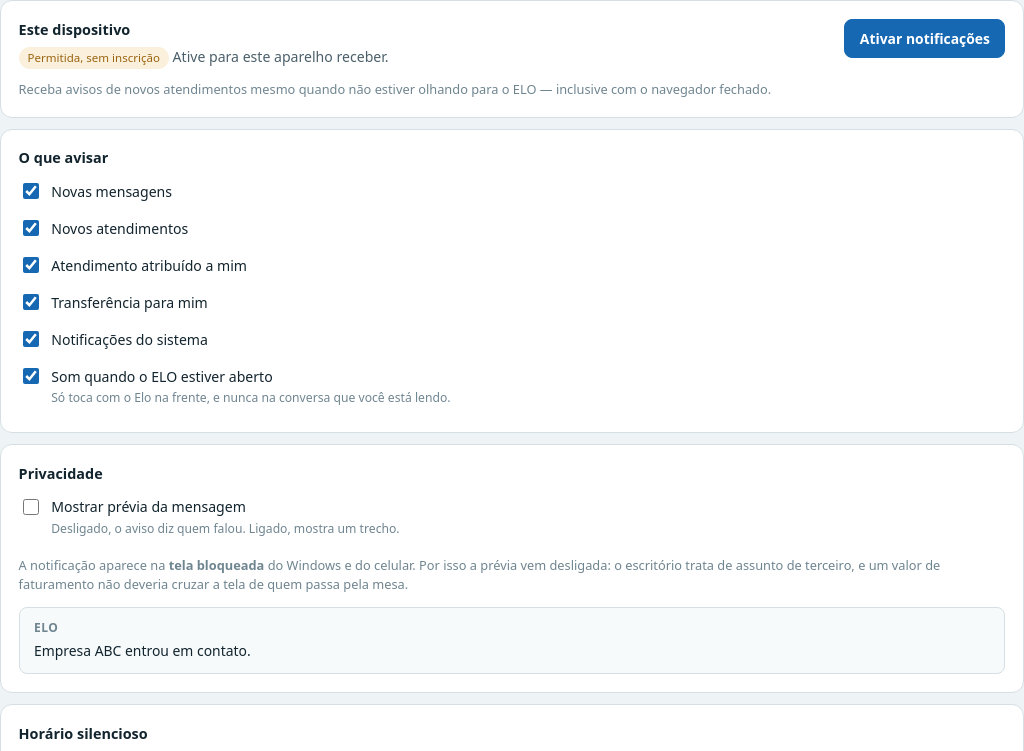
Test: privacidade da prévia › ligada, a amostra mostra o trecho — e a mudança é salva
The image size is (1024, 751).
Click the checkbox labelled "Mostrar prévia da mensagem" at (31, 507), box left=23, top=499, right=39, bottom=515
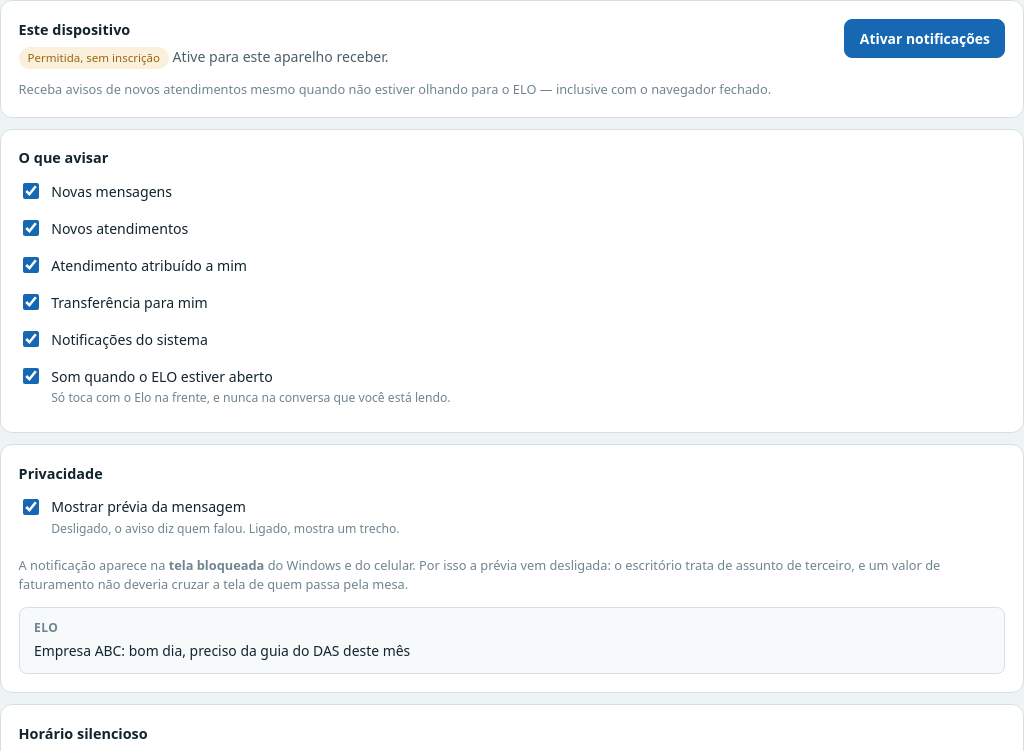
Result: the text "Empresa ABC: bom dia, preciso da guia do DAS deste mês" is shown at left=34, top=641, right=410, bottom=660
